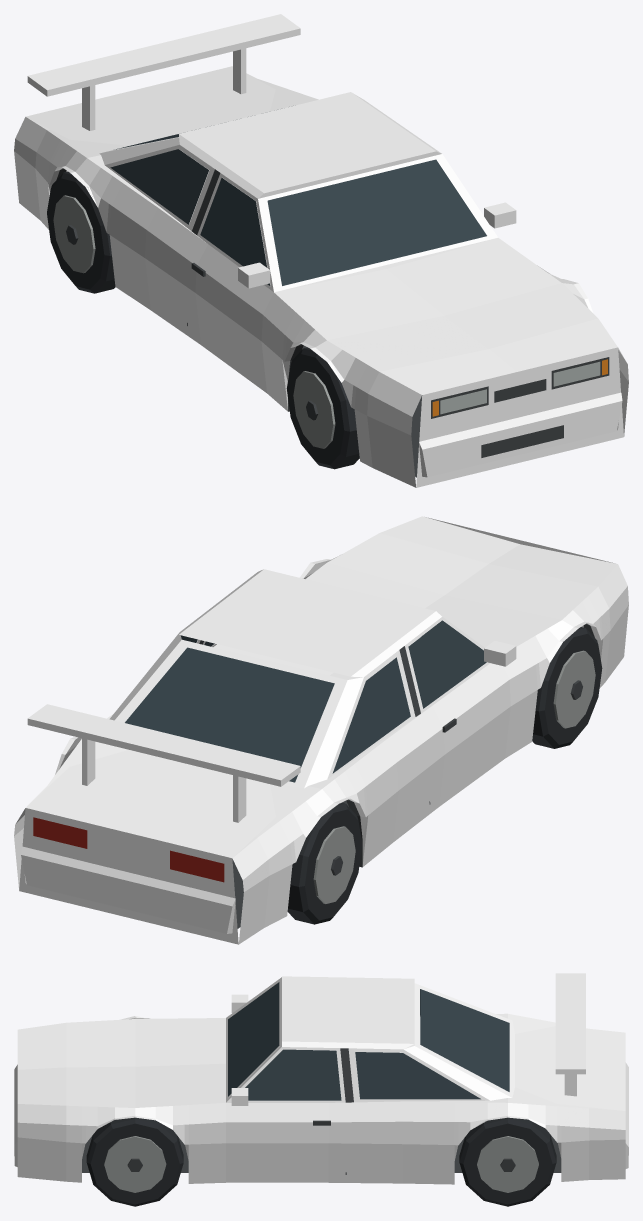
File: kanaya_yamabiko_corrida_99.glb
3 views of the same model, one above another, from view 1: azimuth 30°, elevation 25°; view 2: azimuth 150°, elevation 25°; view 3: azimuth 270°, elevation 25° (orthographic). The views are drawn at different scales.
Visible parts, largest first — view 1: kanaya_yamabiko_corrida_99; view 2: kanaya_yamabiko_corrida_99; view 3: kanaya_yamabiko_corrida_99.
Boxes of the visible parts, left/top/right/bottom form: kanaya_yamabiko_corrida_99: left=14, top=14, right=628, bottom=487; kanaya_yamabiko_corrida_99: left=14, top=516, right=628, bottom=944; kanaya_yamabiko_corrida_99: left=14, top=973, right=628, bottom=1206.
Size of the model in its own units: 1.73 by 1.19 by 4.42.
Materials: 8 (1 with a texture image).
